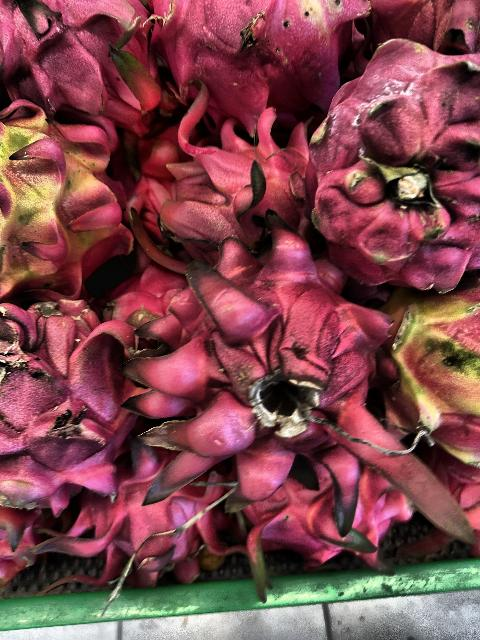buah-naga-belum-matang: (0, 100, 130, 292), (372, 274, 480, 478)
buah-naga-matang: (125, 250, 420, 522), (312, 28, 480, 272), (0, 288, 134, 502), (126, 111, 310, 252), (210, 462, 418, 570), (141, 0, 353, 102), (0, 0, 160, 126), (78, 461, 220, 577)
